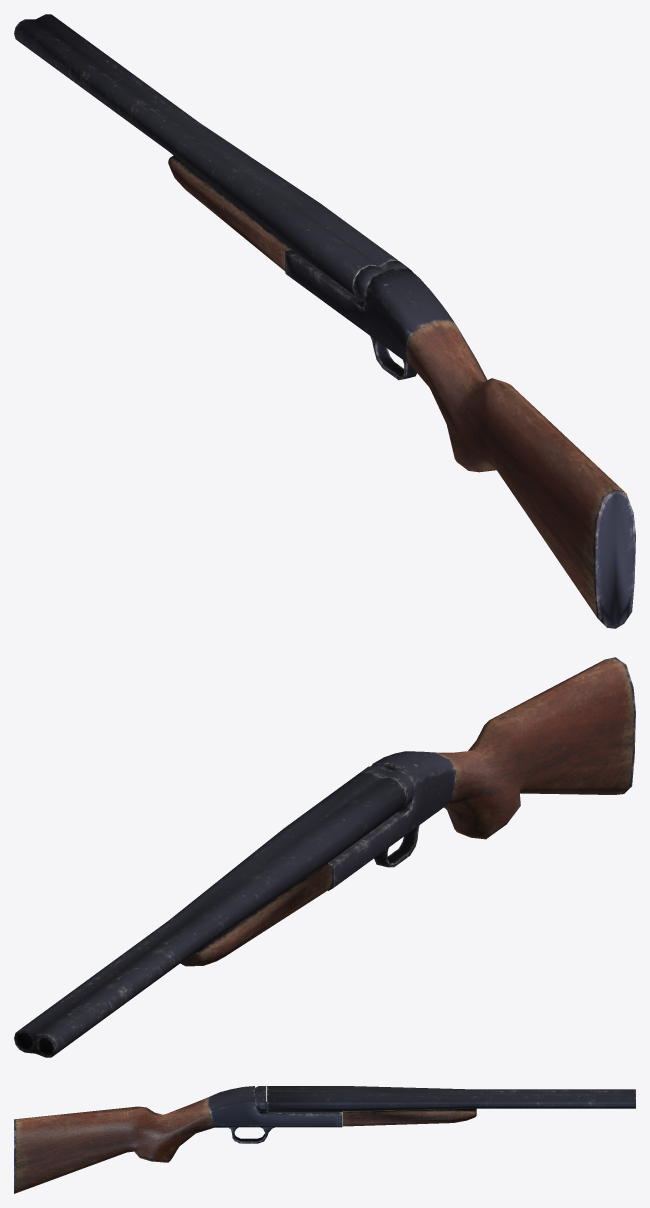
Rendered from DoubleBarrel.fbx.
The picture shows the model from 3 angles, top to bottom: view 1: azimuth 30°, elevation 25°; view 2: azimuth 150°, elevation 25°; view 3: azimuth 270°, elevation 25°; orthographic projection. The views are drawn at different scales.
Visible parts, largest first — view 1: DoubleBarrel; view 2: DoubleBarrel; view 3: DoubleBarrel.
Boxes of the visible parts, box(x1,y1,x2,y2) form: DoubleBarrel: box(14, 14, 635, 628); DoubleBarrel: box(14, 657, 635, 1057); DoubleBarrel: box(14, 1086, 635, 1193).
Size of the model in its own units: 0.0311 by 0.5749 by 0.1068.
